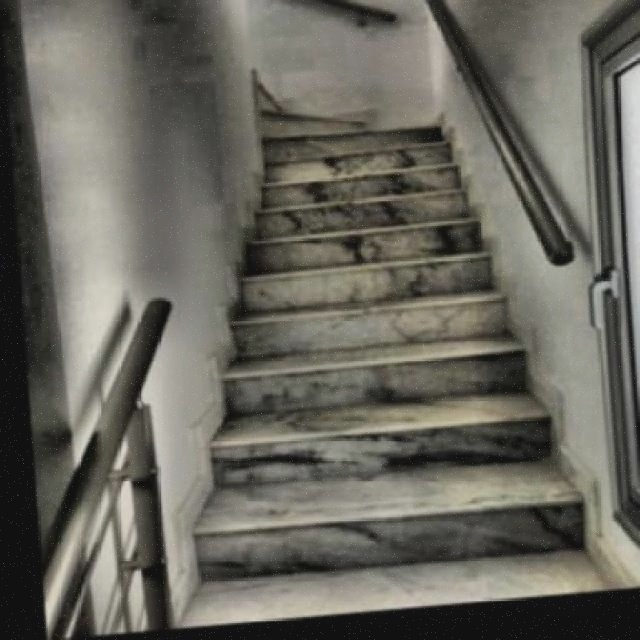stair: (152, 100, 591, 588)
